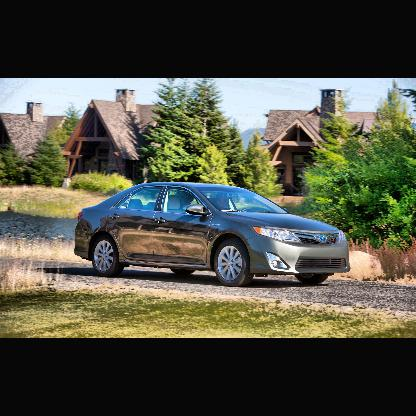Toyota Camry Sedan 2012: (76, 180, 352, 287)
